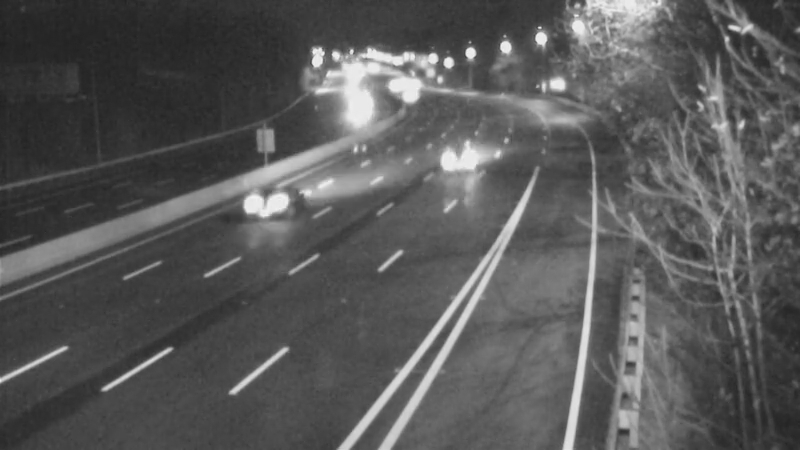vehicle: (421, 117, 501, 197), (218, 170, 298, 250), (382, 70, 432, 120), (332, 82, 382, 132)
